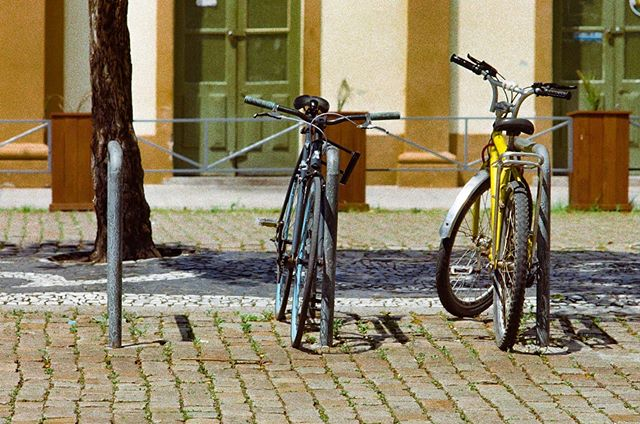bicicle: (418, 61, 571, 352), (252, 89, 364, 335)
building: (1, 1, 630, 169)
